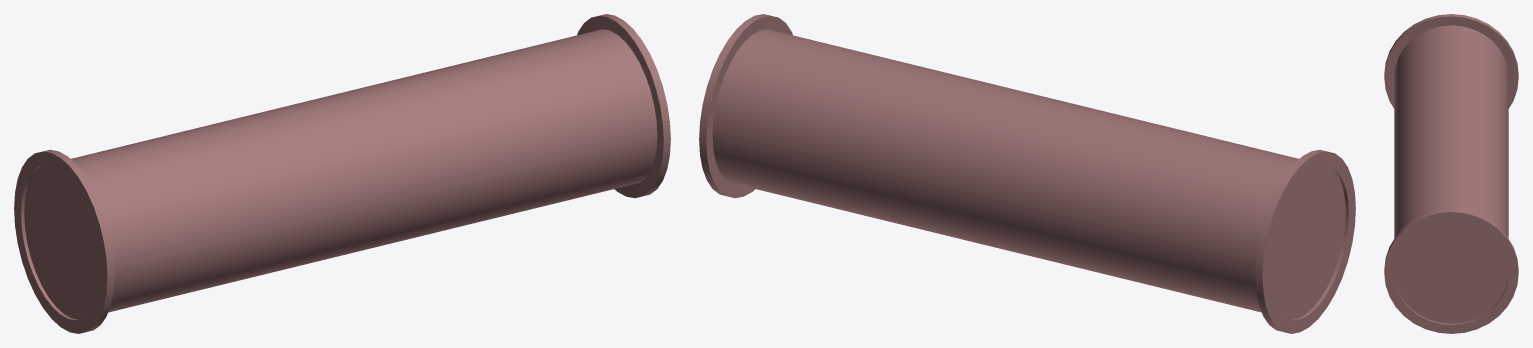
The model's file is pipes2.fbx.
The picture shows the model from 3 angles, left to right: view 1: azimuth 30°, elevation 25°; view 2: azimuth 150°, elevation 25°; view 3: azimuth 270°, elevation 25°; orthographic projection. The views are drawn at different scales.
Parts seen in each view (by area): view 1: Cylinder; view 2: Cylinder; view 3: Cylinder.
Part boxes in pixels (x1,y1,x2,y2): Cylinder: (14, 14, 670, 333); Cylinder: (699, 14, 1355, 333); Cylinder: (1384, 14, 1518, 333).
Size of the model in its own units: 819 by 235 by 235.
